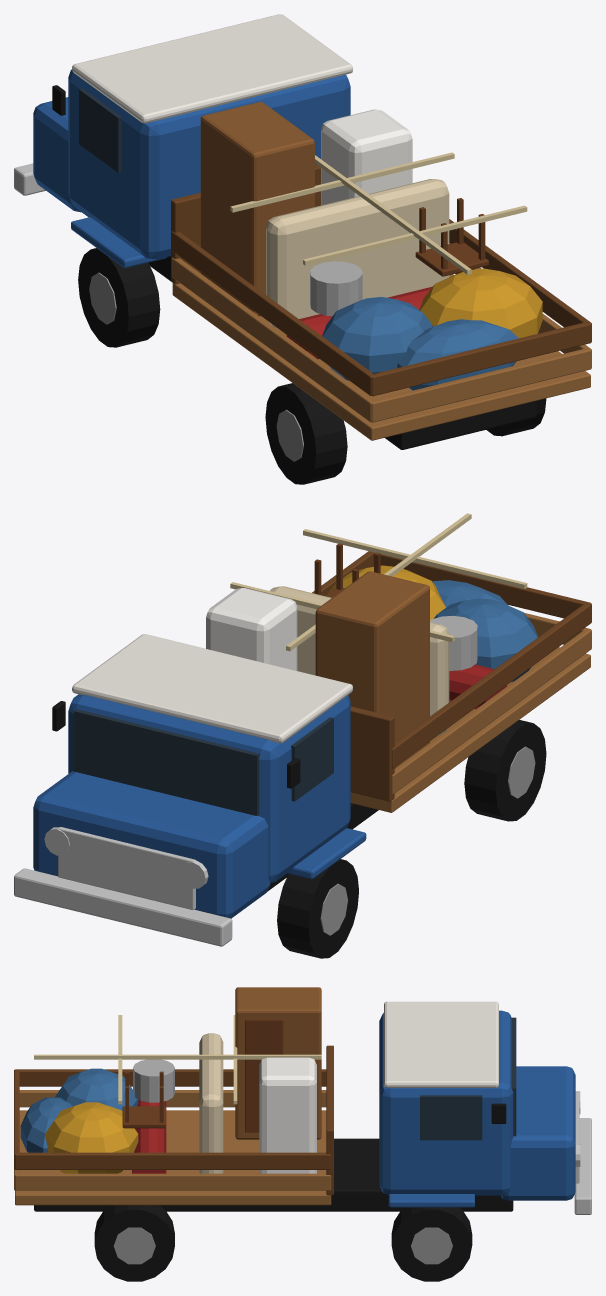
File: gockamyon_yuklu.glb
3 views of the same model, one above another, from view 1: azimuth 30°, elevation 25°; view 2: azimuth 150°, elevation 25°; view 3: azimuth 270°, elevation 25° (orthographic). The views are drawn at different scales.
Visible parts, largest first — view 1: Ayna; view 2: Ayna; view 3: Ayna.
Part boxes in pixels (box(x1,y1,x2,y2)): Ayna: box(14, 14, 591, 484); Ayna: box(14, 513, 591, 958); Ayna: box(14, 987, 591, 1281).
Size of the model in its own units: 0.3847 by 0.4135 by 1.
